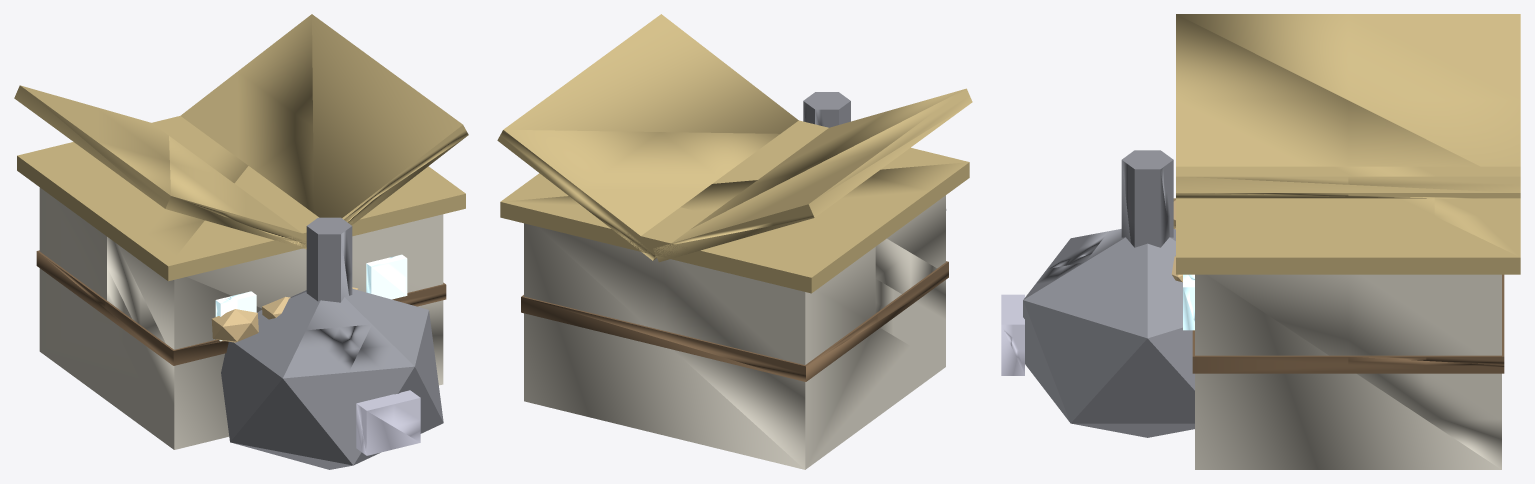
The model's file is bakery.glb.
The picture shows the model from 3 angles, left to right: view 1: azimuth 30°, elevation 25°; view 2: azimuth 150°, elevation 25°; view 3: azimuth 270°, elevation 25°; orthographic projection. The views are drawn at different scales.
Parts seen in each view (by area): view 1: BakeryWall; view 2: BakeryWall; view 3: BakeryWall.
Part boxes in pixels (x1,y1,x2,y2): BakeryWall: (14,14,468,469); BakeryWall: (497,14,972,469); BakeryWall: (1001,14,1520,469).
Size of the model in its own units: 1.69 by 1.6 by 2.2.
